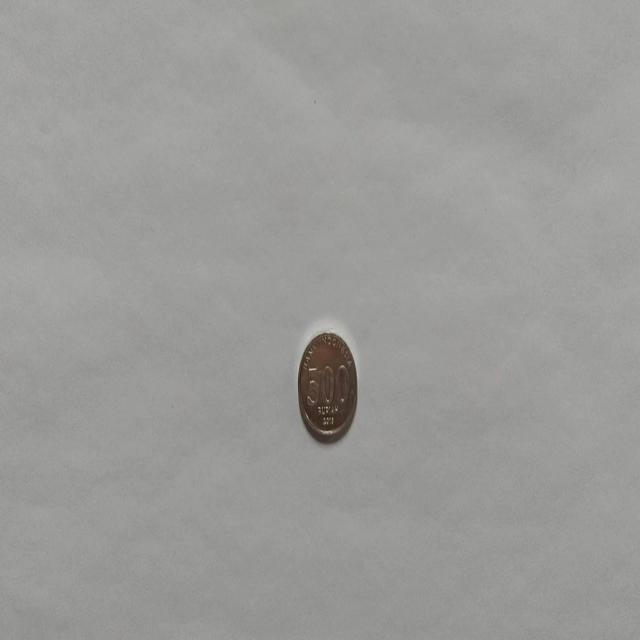lima ratus rupiah: (296, 329, 358, 443)
